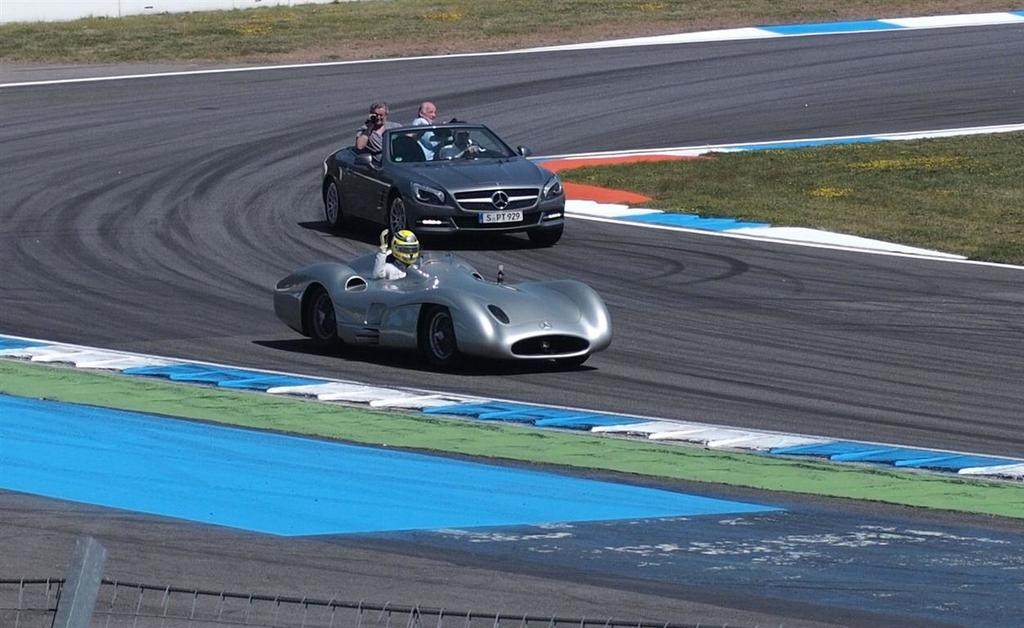Car: (272, 224, 611, 368), (315, 106, 560, 242)
